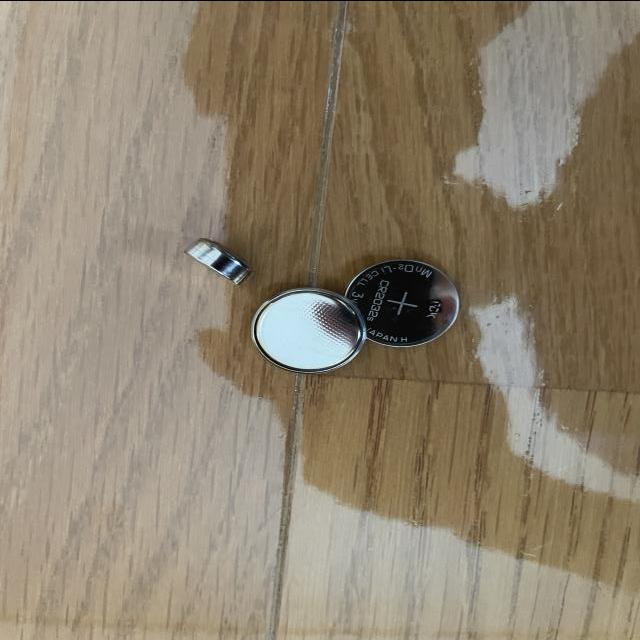COIN: (341, 256, 461, 348), (250, 285, 366, 375), (182, 235, 255, 284)
